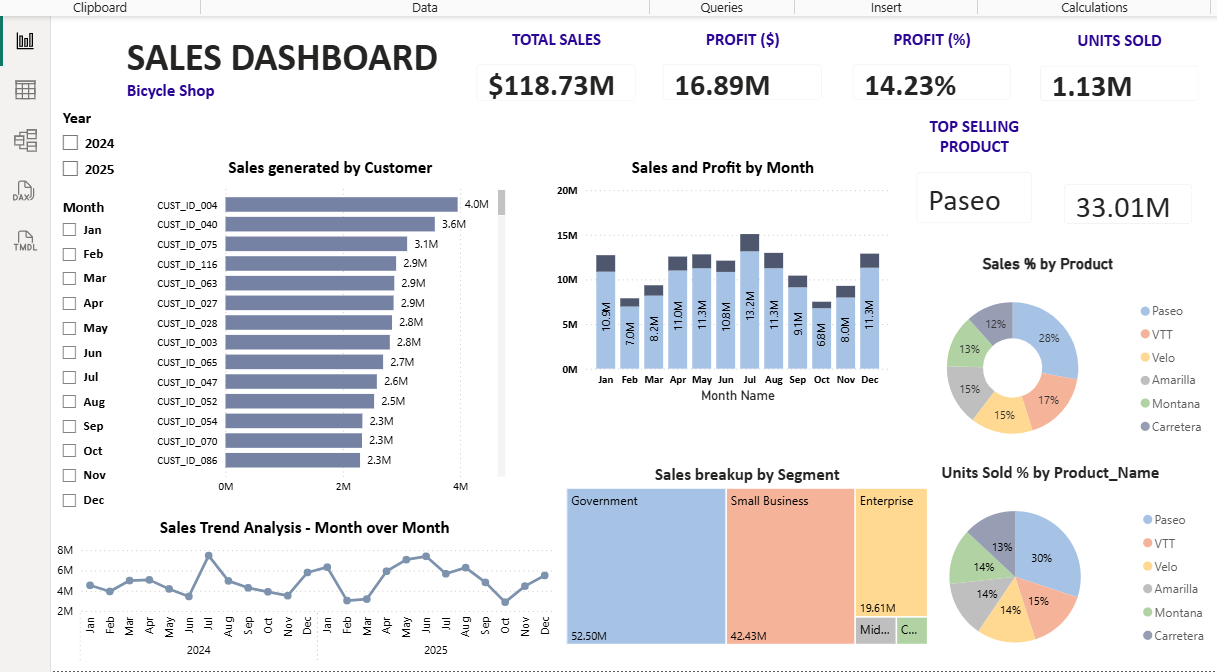

The page's visual inventory and layout, read from the dashboard file:
{"tool":"powerbi","page":{"name":"Page 1","canvas":[1280,720],"ordinal":0},"visuals":[{"type":"cardVisual","title":"TOTAL SALES","fields":{"Data":["Sum(Sheet1.Sales)"]},"box":[450.4,14.3,209.5,96.9],"z":0},{"type":"cardVisual","title":"PROFIT (%)","fields":{"Data":["Sheet1.Profit (%)"]},"box":[863.8,14.3,208.1,95.5],"z":1000},{"type":"cardVisual","title":"UNITS SOLD","fields":{"Data":["Sum(Sheet1.Units Sold)"]},"box":[1069,15.7,208.1,95.5],"z":2000},{"type":"cardVisual","title":"PROFIT ($)","fields":{"Data":["Sum(Sheet1.Profit)"]},"box":[654.3,14.3,209.5,95.5],"z":3000},{"type":"cardVisual","title":"TOP SELLING PRODUCT","fields":{"Data":["Min(Sheet1.Product_Name)"]},"box":[933.6,109.8,161.1,135.4],"z":4000},{"type":"cardVisual","title":"TOP SELLING PRODUCT","fields":{"Data":["Sum(Sheet1.Sales)"]},"box":[1094.7,166.8,175.3,78.4],"z":5000},{"type":"donutChart","title":"Sales % by Product","fields":{"Y":["Sum(Sheet1.Sales)"],"Category":["Sheet1.Product_Name"]},"box":[910.8,262.3,366.3,228.1],"z":6000},{"type":"pieChart","title":"Units Sold % by Product_Name","fields":{"Y":["Sum(Sheet1.Units Sold)"],"Category":["Sheet1.Product_Name"]},"box":[913.7,490.3,366.3,229.5],"z":7000},{"type":"treemap","title":"Sales breakup by Segment","fields":{"Group":["Sheet1.Segment"],"Values":["Sum(Sheet1.Sales)"]},"box":[561.6,491.8,406.2,203.8],"z":8000},{"type":"lineChart","title":"Sales Trend Analysis - Month over Month","fields":{"Y":["Sum(Sheet1.Sales)"],"Category":["Sheet1.Date.Variation.Date Hierarchy.Year","Sheet1.Month Name"]},"box":[1.4,550.2,554.5,168.2],"z":9000},{"type":"slicer","fields":{"Values":["Sheet1.Year"]},"box":[0,95.5,109.8,96.9],"z":10000},{"type":"slicer","fields":{"Values":["Sheet1.Month Name"]},"box":[0,195.3,109.8,369.2],"z":11000},{"type":"textbox","box":[78.4,14.3,377.7,98.4],"z":12000},{"type":"clusteredBarChart","title":"Sales generated by Customer","fields":{"Y":["Sum(Sheet1.Sales)"],"Category":["Sheet1.Customer_ID"]},"box":[109.8,155.1,393.8,378.7],"z":13000},{"type":"columnChart","title":"Sales and Profit by Month","fields":{"Y":["Sum(Sheet1.Sales)","Sum(Sheet1.Profit)"],"Category":["Sheet1.Month Name"]},"box":[550.2,155.4,374.9,275.1],"z":14000}]}

Visuals, with their boxes on the page's 1280x720 design canvas (x1, y1, x2, y2). These are canvas units, not pixel positions in the 1217x672 screenshot, which may show the page scaled, cropped or inside an application window:
"TOTAL SALES" cardVisual: [x1=450, y1=14, x2=660, y2=111]
"PROFIT (%)" cardVisual: [x1=864, y1=14, x2=1072, y2=110]
"UNITS SOLD" cardVisual: [x1=1069, y1=16, x2=1277, y2=111]
"PROFIT ($)" cardVisual: [x1=654, y1=14, x2=864, y2=110]
"TOP SELLING PRODUCT" cardVisual: [x1=934, y1=110, x2=1095, y2=245]
"TOP SELLING PRODUCT" cardVisual: [x1=1095, y1=167, x2=1270, y2=245]
"Sales % by Product" donutChart: [x1=911, y1=262, x2=1277, y2=490]
"Units Sold % by Product_Name" pieChart: [x1=914, y1=490, x2=1280, y2=720]
"Sales breakup by Segment" treemap: [x1=562, y1=492, x2=968, y2=696]
"Sales Trend Analysis - Month over Month" lineChart: [x1=1, y1=550, x2=556, y2=718]
slicer - Sheet1.Year: [x1=0, y1=96, x2=110, y2=192]
slicer - Sheet1.Month Name: [x1=0, y1=195, x2=110, y2=564]
textbox: [x1=78, y1=14, x2=456, y2=113]
"Sales generated by Customer" clusteredBarChart: [x1=110, y1=155, x2=504, y2=534]
"Sales and Profit by Month" columnChart: [x1=550, y1=155, x2=925, y2=430]
